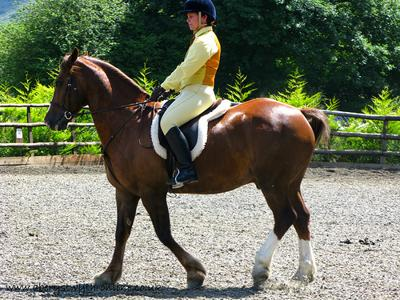person: (150, 2, 222, 186)
